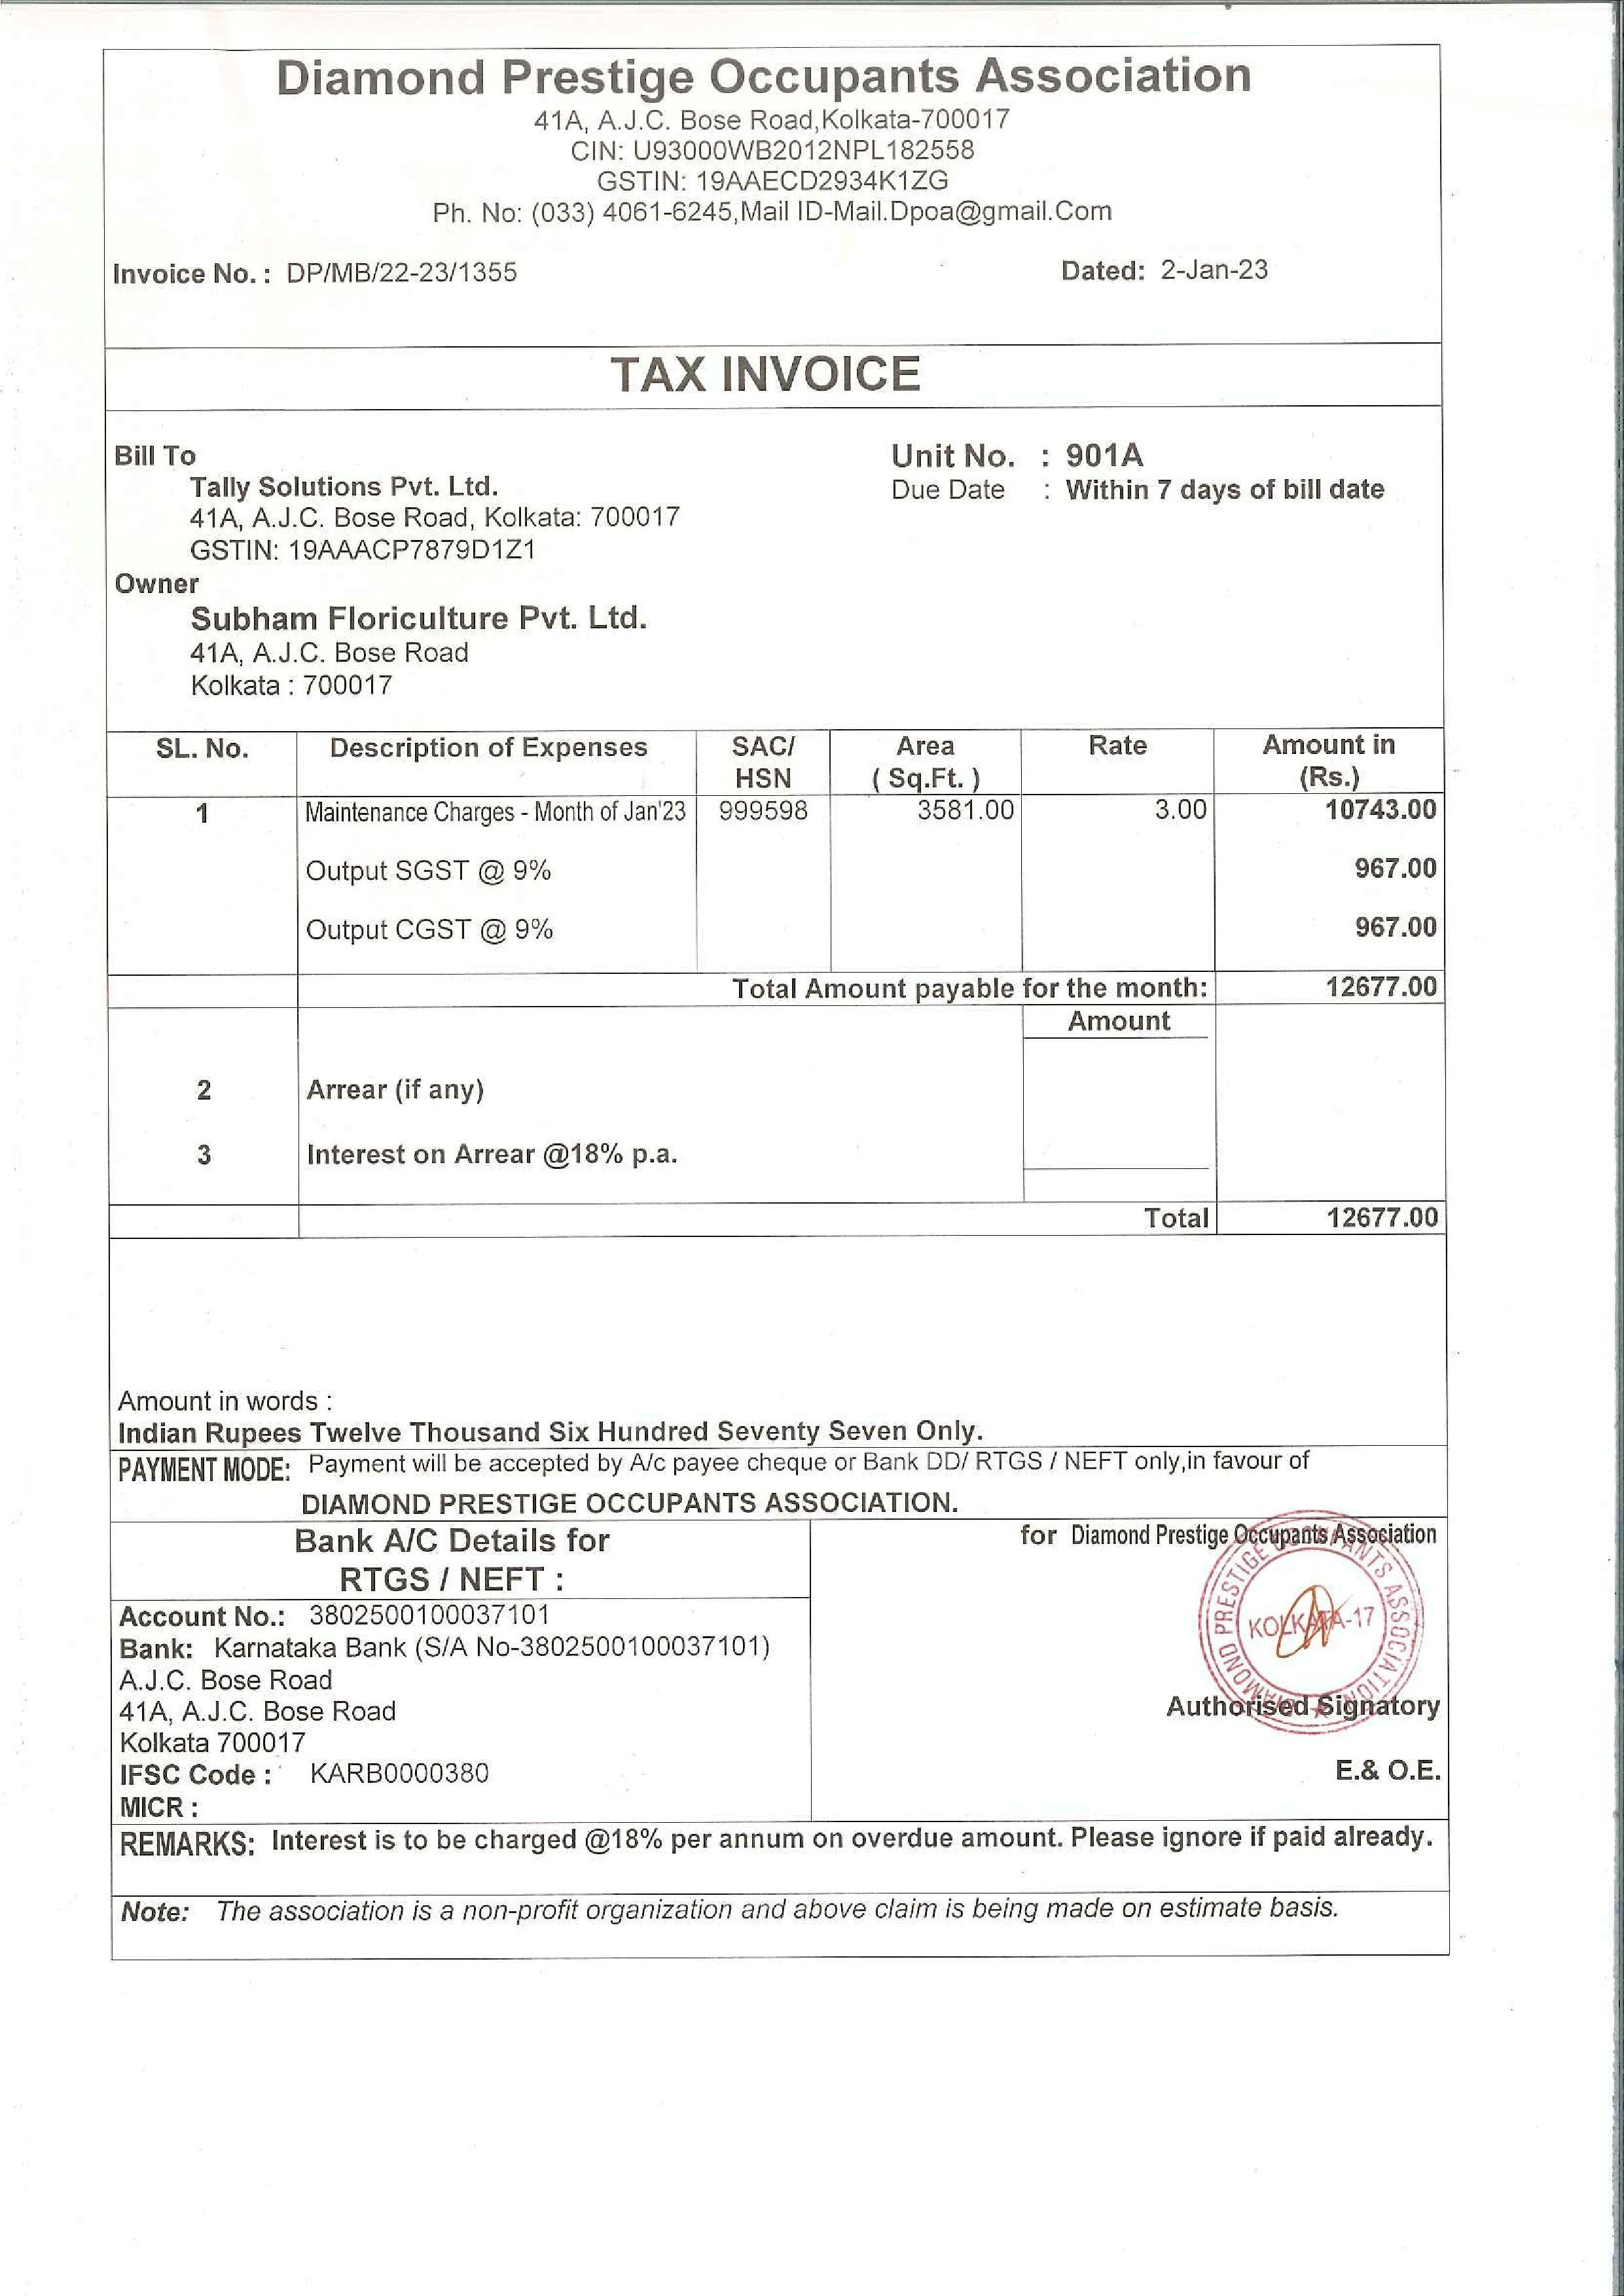InvoiceDate: (1146, 239, 1290, 302)
InvoiceNumber: (265, 237, 531, 295)
TotalAmount: (1309, 1191, 1476, 1247)
